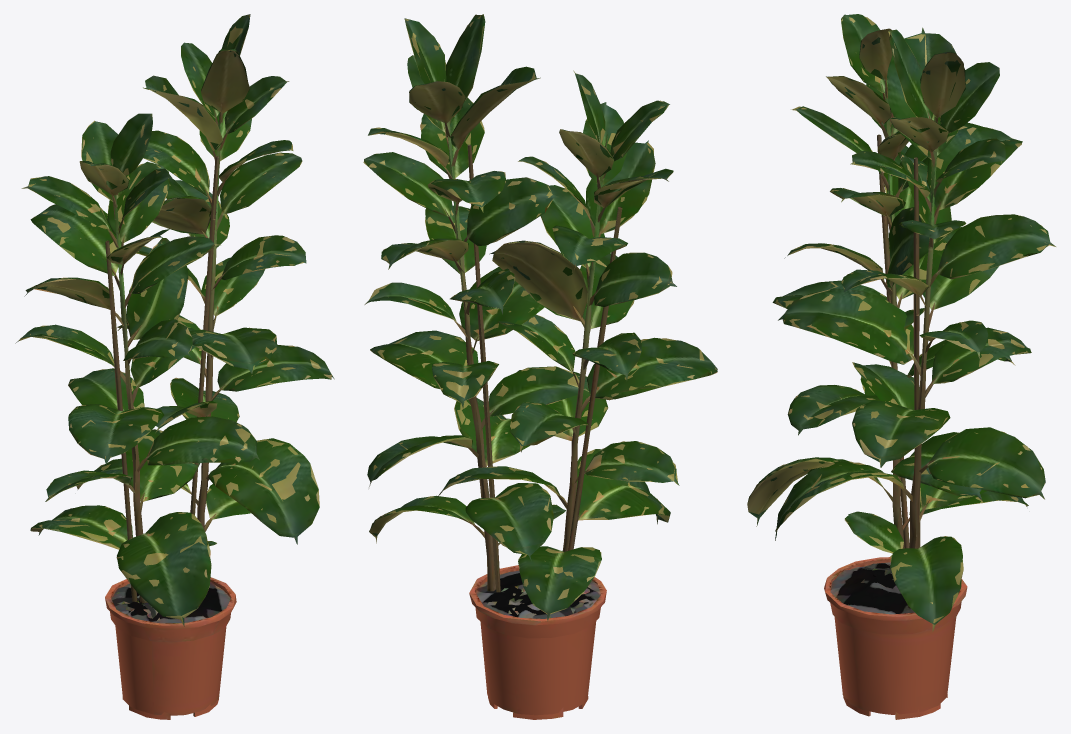
The model's file is ficus_elastica_robusta_roslina_doniczkowa_80495200.glb.
The picture shows the model from 3 angles, left to right: view 1: azimuth 30°, elevation 25°; view 2: azimuth 150°, elevation 25°; view 3: azimuth 270°, elevation 25°; orthographic projection. The views are drawn at different scales.
Visible parts, largest first — view 1: ficus_elastica_robusta_roslina_doniczkowa_80495200; view 2: ficus_elastica_robusta_roslina_doniczkowa_80495200; view 3: ficus_elastica_robusta_roslina_doniczkowa_80495200.
Part boxes in pixels (<box>): ficus_elastica_robusta_roslina_doniczkowa_80495200: <box>15,14,334,719</box>; ficus_elastica_robusta_roslina_doniczkowa_80495200: <box>363,14,717,719</box>; ficus_elastica_robusta_roslina_doniczkowa_80495200: <box>747,14,1055,719</box>.
Size of the model in its own units: 0.7004 by 1.45 by 0.5795.
Materials: 1 (1 with a texture image).
